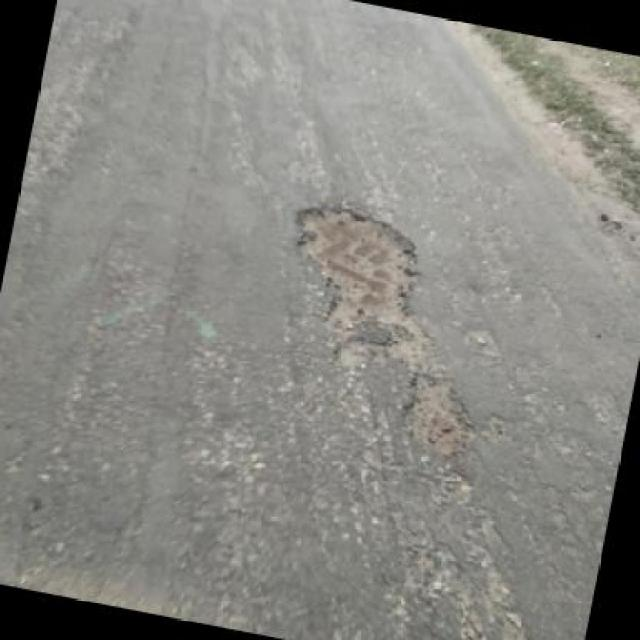pothole1: (276, 192, 435, 336), (397, 368, 491, 461)
